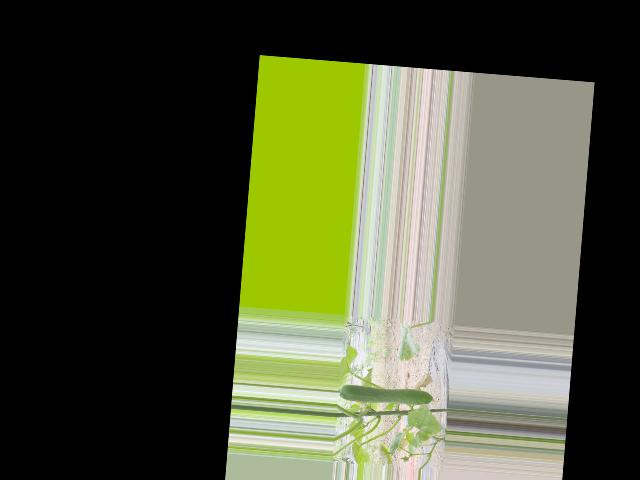cucumber: (339, 383, 436, 408)
